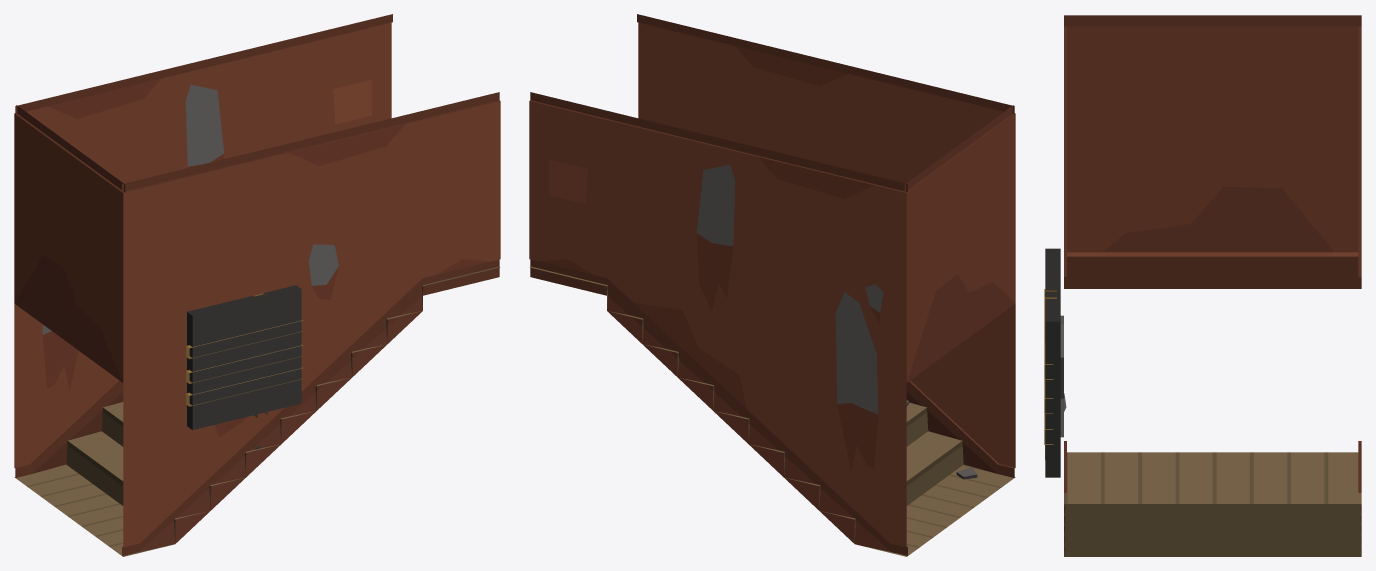
Rendered from AI_Env_Stairs_Red.fbx.
3 views of the same model, side by side, from view 1: azimuth 30°, elevation 25°; view 2: azimuth 150°, elevation 25°; view 3: azimuth 270°, elevation 25° (orthographic). The views are drawn at different scales.
Parts seen in each view (by area): view 1: AI_Env_Stairs_Red; view 2: AI_Env_Stairs_Red; view 3: AI_Env_Stairs_Red.
Part boxes in pixels (x1,y1,x2,y2): AI_Env_Stairs_Red: (14,14,500,556); AI_Env_Stairs_Red: (529,14,1015,556); AI_Env_Stairs_Red: (1044,15,1361,556).
Bounding box in the file's own units: 10 × 9.46 × 5.33.
